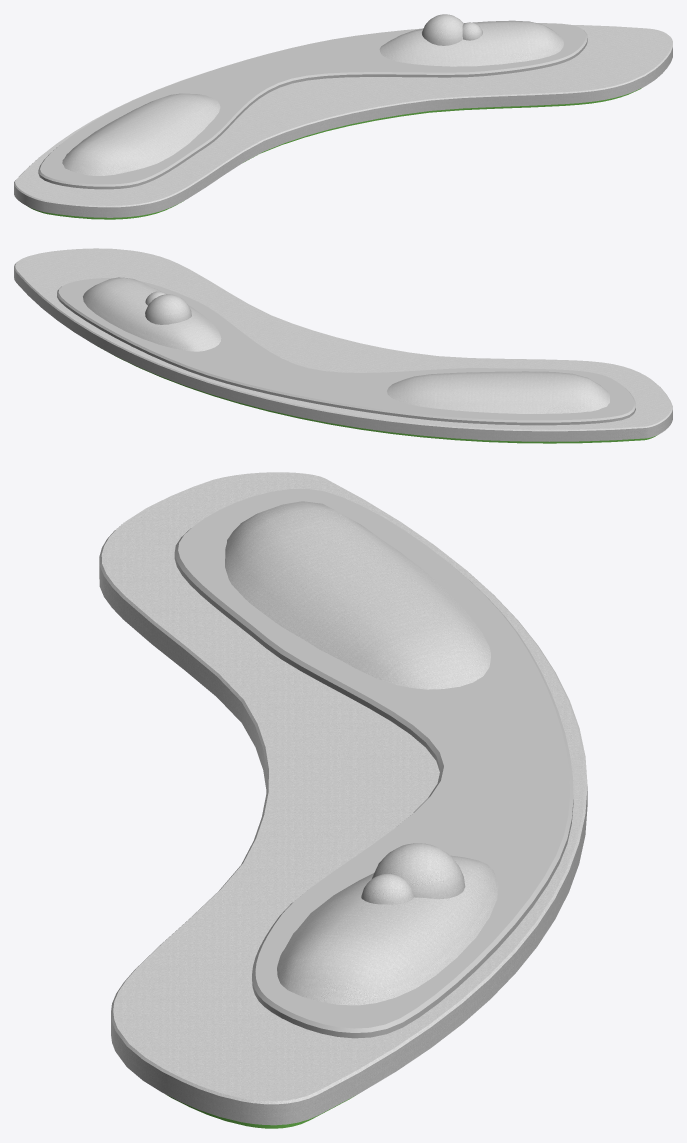
Rendered from MOb_ArtBench_002.fbx.
3 views of the same model, one above another, from view 1: azimuth 30°, elevation 25°; view 2: azimuth 150°, elevation 25°; view 3: azimuth 270°, elevation 25° (orthographic). The views are drawn at different scales.
Visible parts, largest first — view 1: MOb_ArtBench_002; view 2: MOb_ArtBench_002; view 3: MOb_ArtBench_002.
Part boxes in pixels (bbox=[...]): MOb_ArtBench_002: bbox=[14, 14, 672, 219]; MOb_ArtBench_002: bbox=[14, 248, 672, 443]; MOb_ArtBench_002: bbox=[99, 472, 587, 1128].
Size of the model in its own units: 12.97 by 0.995 by 4.24.
